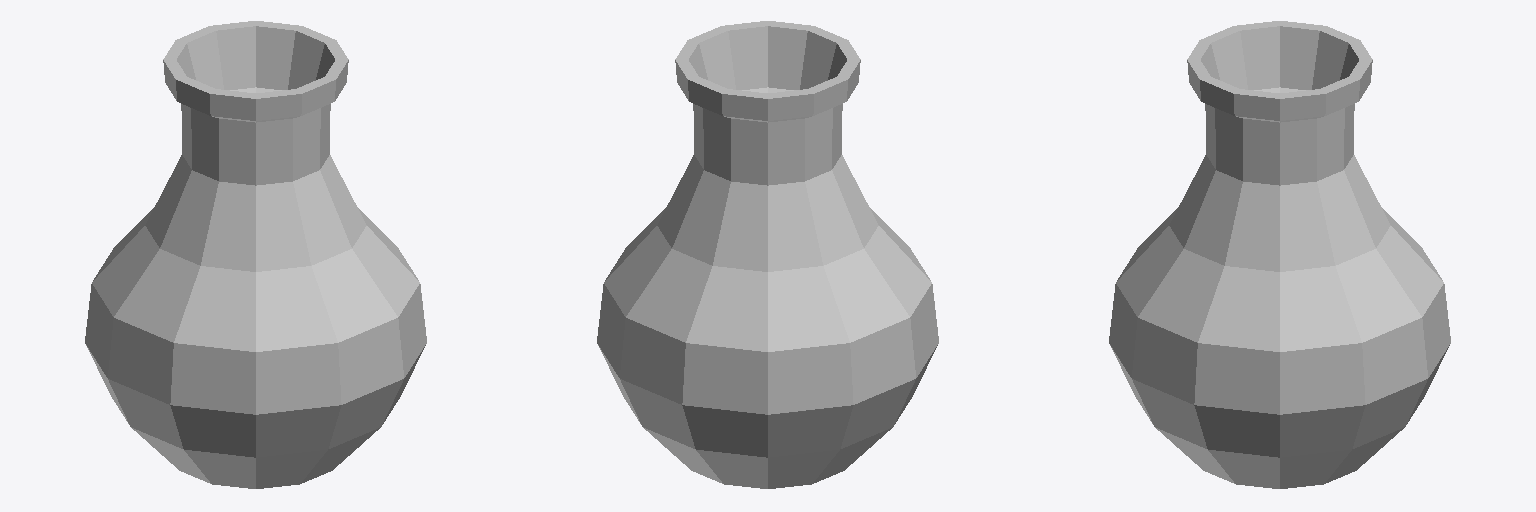
The model's file is Asset_vase_court_03.obj.
3 views of the same model, side by side, from view 1: azimuth 30°, elevation 25°; view 2: azimuth 150°, elevation 25°; view 3: azimuth 270°, elevation 25° (orthographic).
Visible parts, largest first — view 1: Vase_court_03; view 2: Vase_court_03; view 3: Vase_court_03.
Boxes of the visible parts, <box> form: Vase_court_03: <box>85,21,426,488</box>; Vase_court_03: <box>597,21,938,488</box>; Vase_court_03: <box>1109,21,1450,488</box>.
Size of the model in its own units: 129 by 163 by 129.